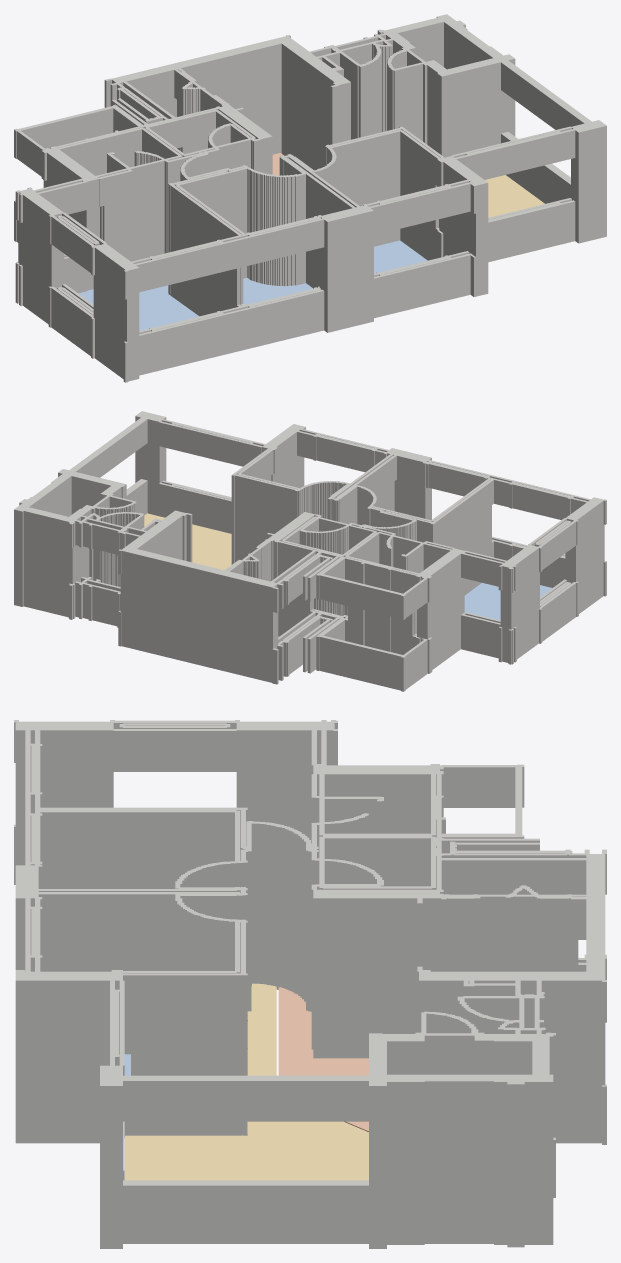
The picture shows the model from 3 angles, top to bottom: view 1: azimuth 30°, elevation 25°; view 2: azimuth 150°, elevation 25°; view 3: azimuth 270°, elevation 25°; orthographic projection. The views are drawn at different scales.
Parts seen in each view (by area): view 1: walls, room:bedroom:4, room:living:3, room:bedroom:6, room:bedroom:5; view 2: walls, room:living:3, room:bedroom:4; view 3: walls, room:living:3, room:kitchen:8.
Part boxes in pixels (<box>): walls: <box>14,14,606,382</box>; room:bedroom:4: <box>78,285,198,330</box>; room:living:3: <box>485,175,544,217</box>; room:bedroom:6: <box>374,240,427,273</box>; room:bedroom:5: <box>243,278,312,304</box>; walls: <box>14,411,606,691</box>; room:living:3: <box>144,513,231,569</box>; room:bedroom:4: <box>464,583,552,620</box>; walls: <box>14,720,606,1248</box>; room:living:3: <box>125,983,368,1180</box>; room:kitchen:8: <box>278,987,368,1131</box>.
Size of the model in its own units: 13.49 by 2.8 by 9.24.
